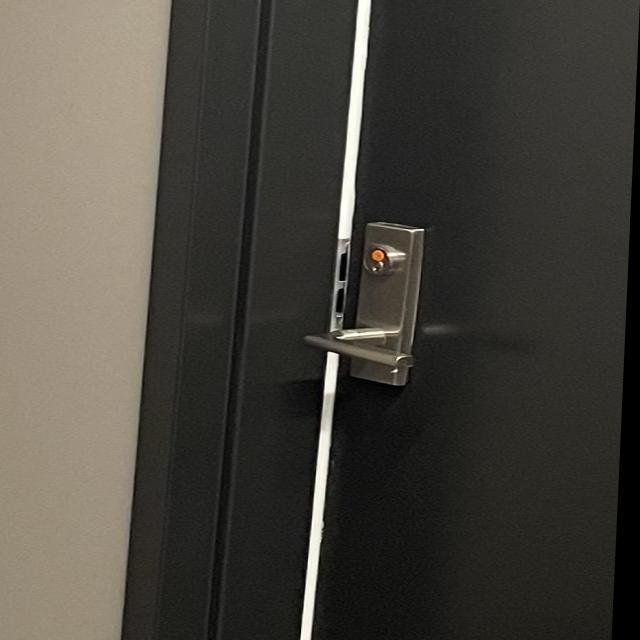door_handle: (277, 310, 462, 385)
